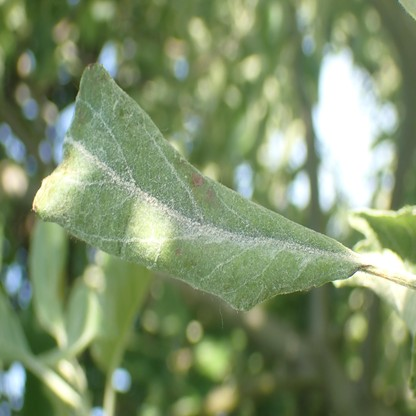powdery_mildew: (34, 62, 371, 313)
